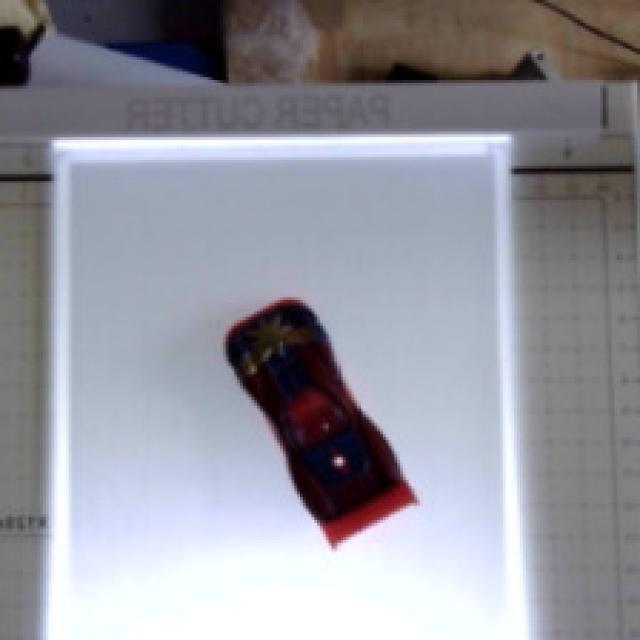Red Car: (155, 255, 440, 574), (252, 402, 454, 545)
